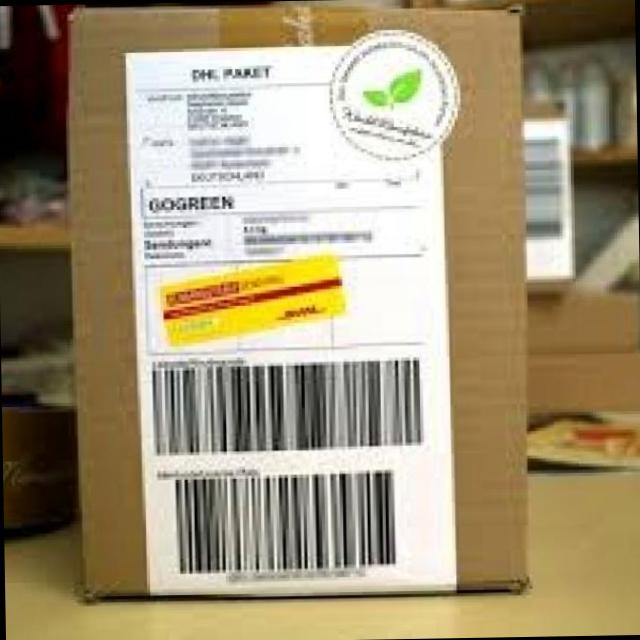cardboard paper: (68, 6, 525, 596)
